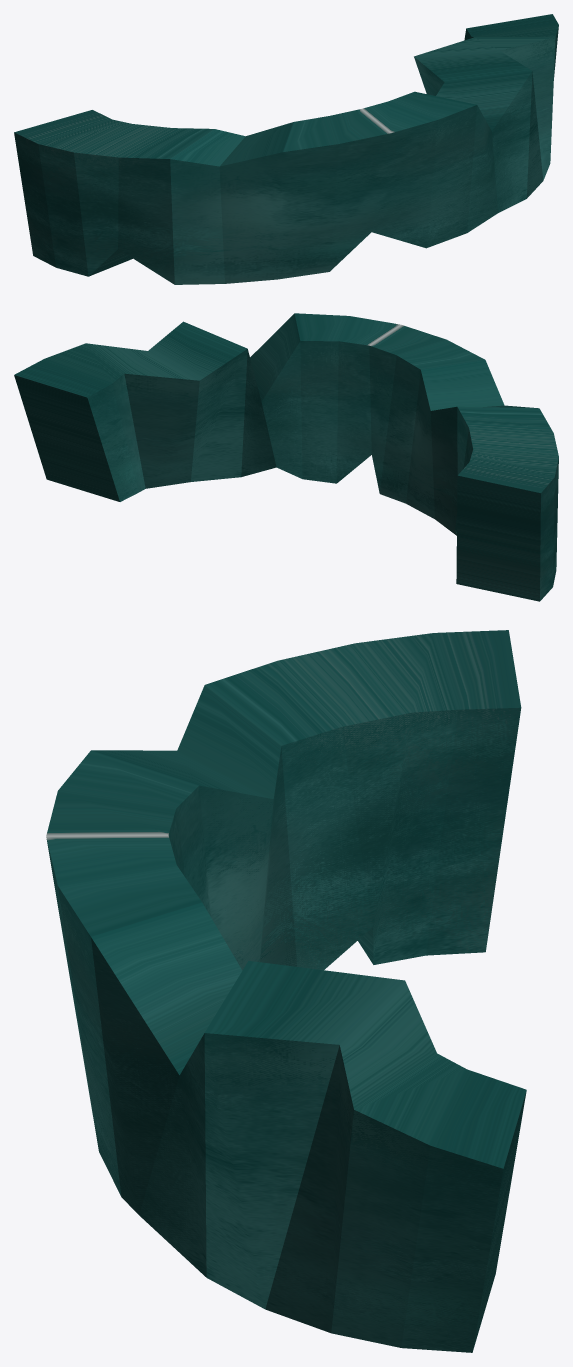
File: spaceship chunks control pannel.fbx
3 views of the same model, one above another, from view 1: azimuth 30°, elevation 25°; view 2: azimuth 150°, elevation 25°; view 3: azimuth 270°, elevation 25° (orthographic). The views are drawn at different scales.
Parts seen in each view (by area): view 1: Cylinder; view 2: Cylinder; view 3: Cylinder.
Boxes of the visible parts, <box> form: Cylinder: <box>14,14,558,284</box>; Cylinder: <box>14,313,558,601</box>; Cylinder: <box>46,630,526,1352</box>.
Bounding box in the file's own units: 339 × 85.83 × 133.
